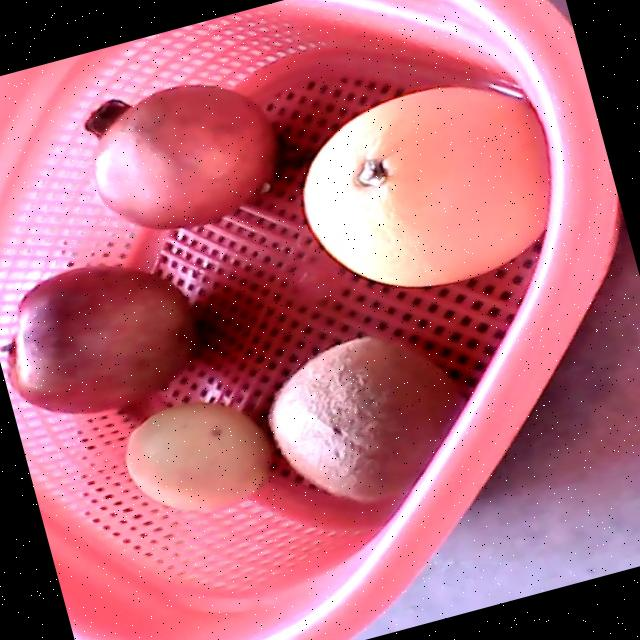apple: (8, 263, 200, 413)
kiwi: (266, 333, 466, 502)
lemon: (124, 402, 273, 514)
orange: (301, 83, 550, 286)
pomegranate: (84, 83, 279, 228)
